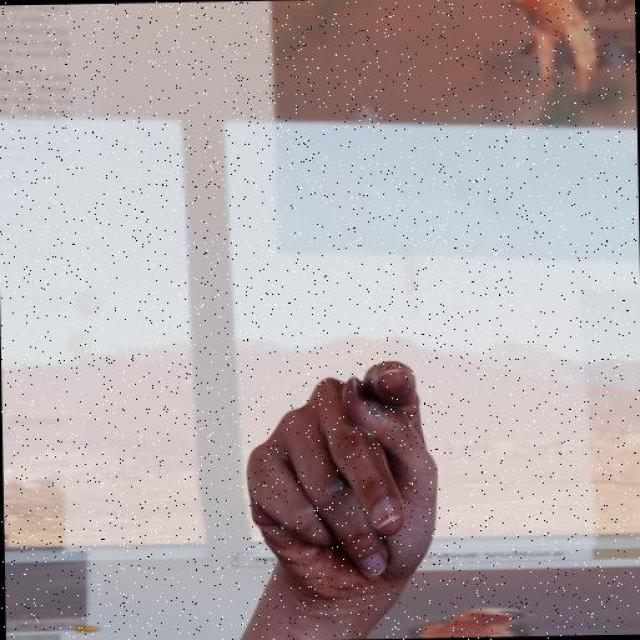P: (238, 356, 444, 609)
